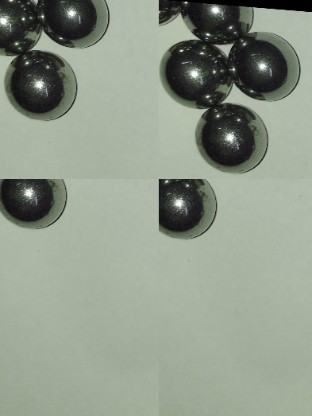ironball: (190, 100, 274, 178), (2, 50, 78, 120), (157, 38, 230, 110), (225, 31, 299, 102), (151, 176, 220, 241), (38, 0, 118, 50), (0, 176, 66, 233), (181, 0, 257, 46), (0, 0, 52, 58)
